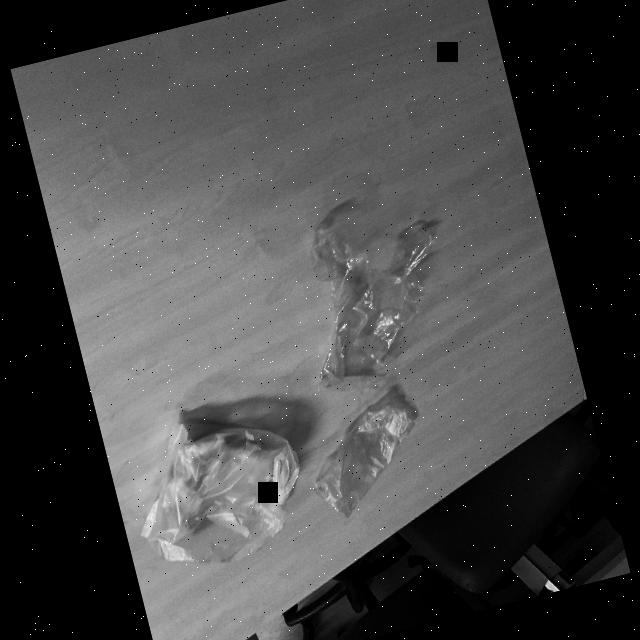plastic_bag: (276, 187, 476, 396), (115, 388, 319, 584), (303, 394, 437, 518)
